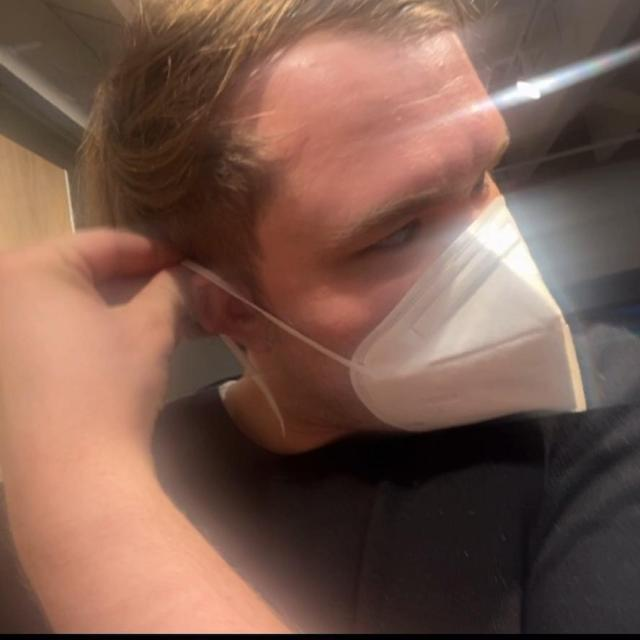no-helmet: (84, 0, 590, 413)
